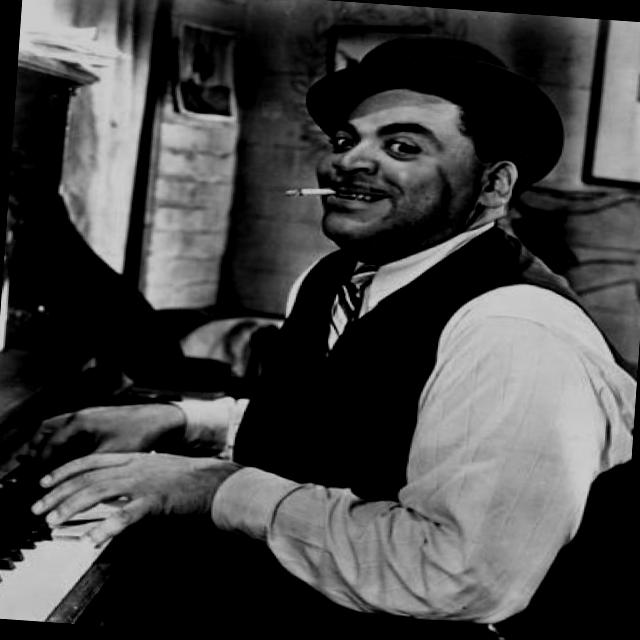cigarette: (284, 178, 342, 210)
